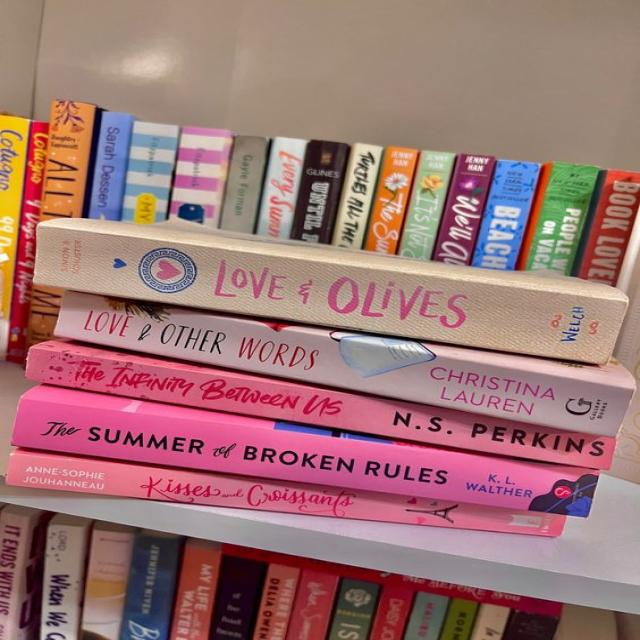book: (34, 225, 633, 365), (56, 292, 633, 436), (11, 386, 612, 516), (27, 341, 614, 468), (10, 449, 565, 536)
